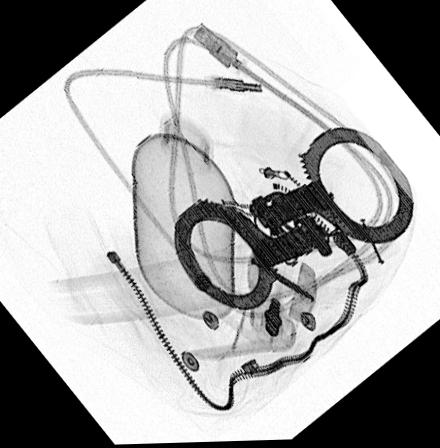HandCuffs: (173, 125, 415, 313)
